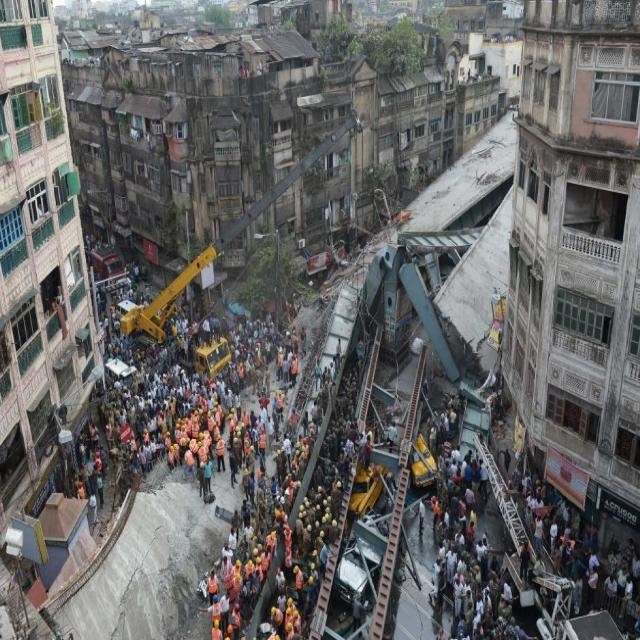collapsed_building: (342, 110, 519, 392)
